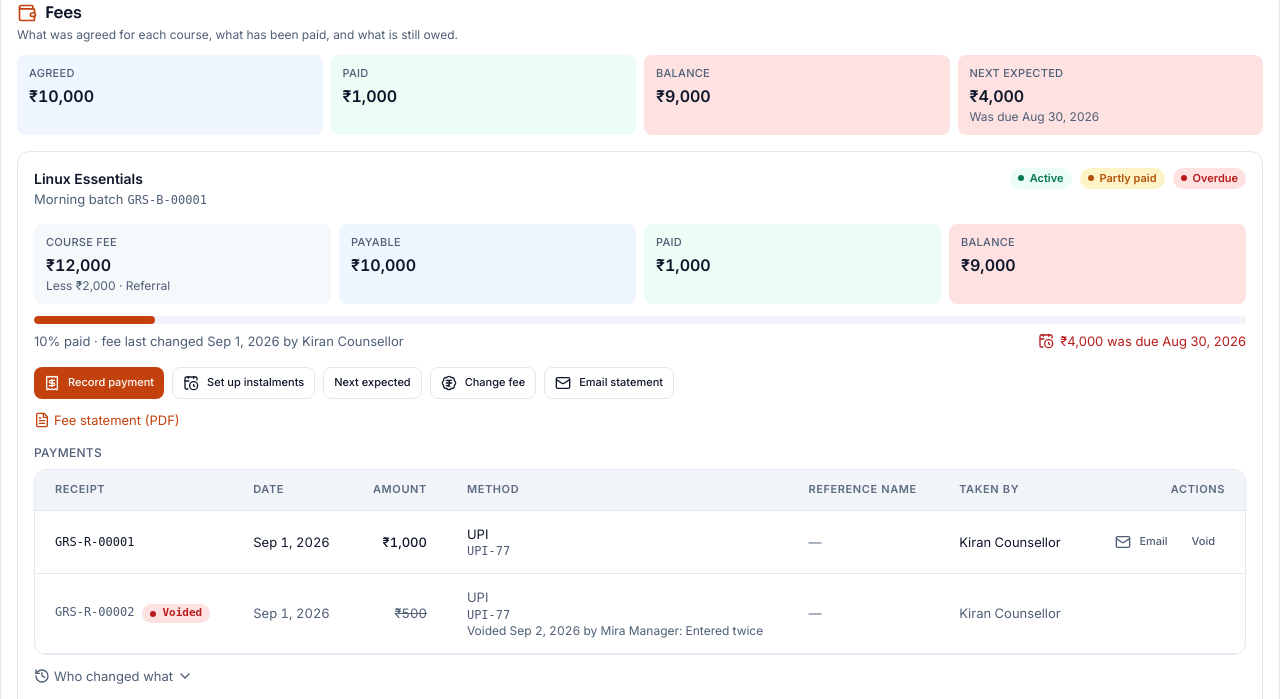
it: FeeLedger › mails the statement, resends a receipt and lists what was sent
Click the button "Email statement" at (609, 383), box [544,367,674,399]
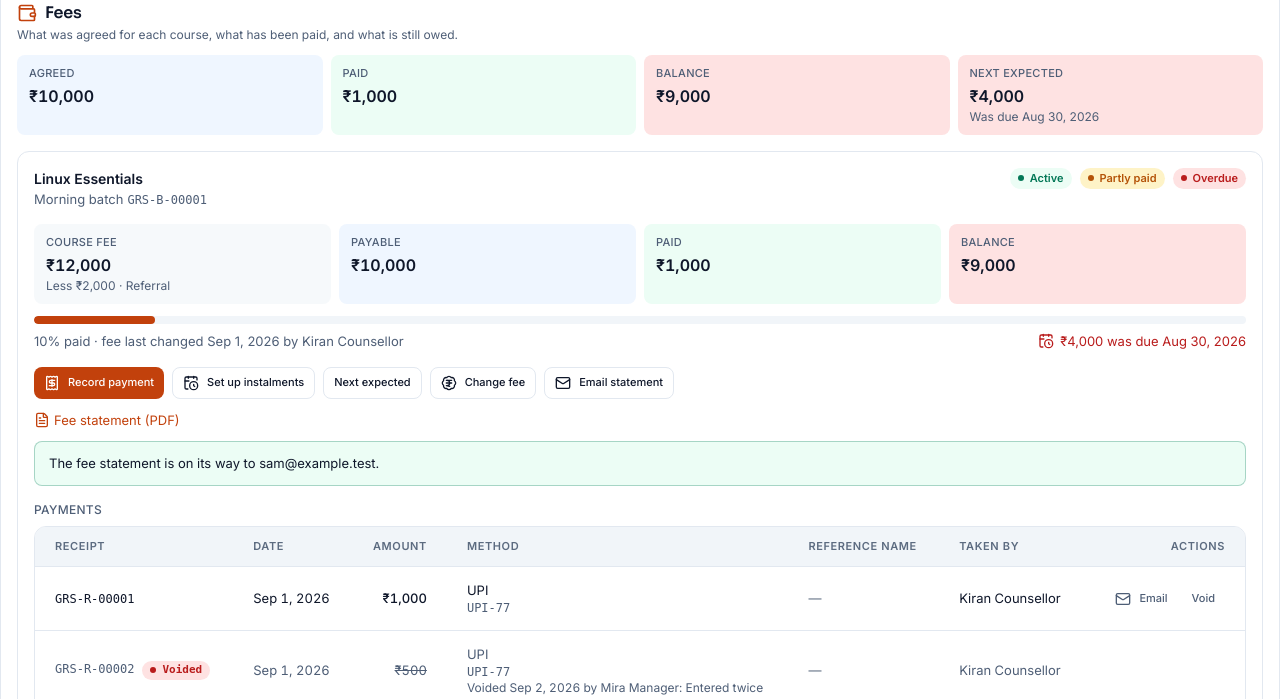
Now the text "The fee statement is on its way to sam@example.test." is shown, box [34,441,1246,486]
Click the button with aria-label "Email receipt GRS-R-00001 to the student" at (1142, 599), box [1105,583,1178,615]
(page scrolled)
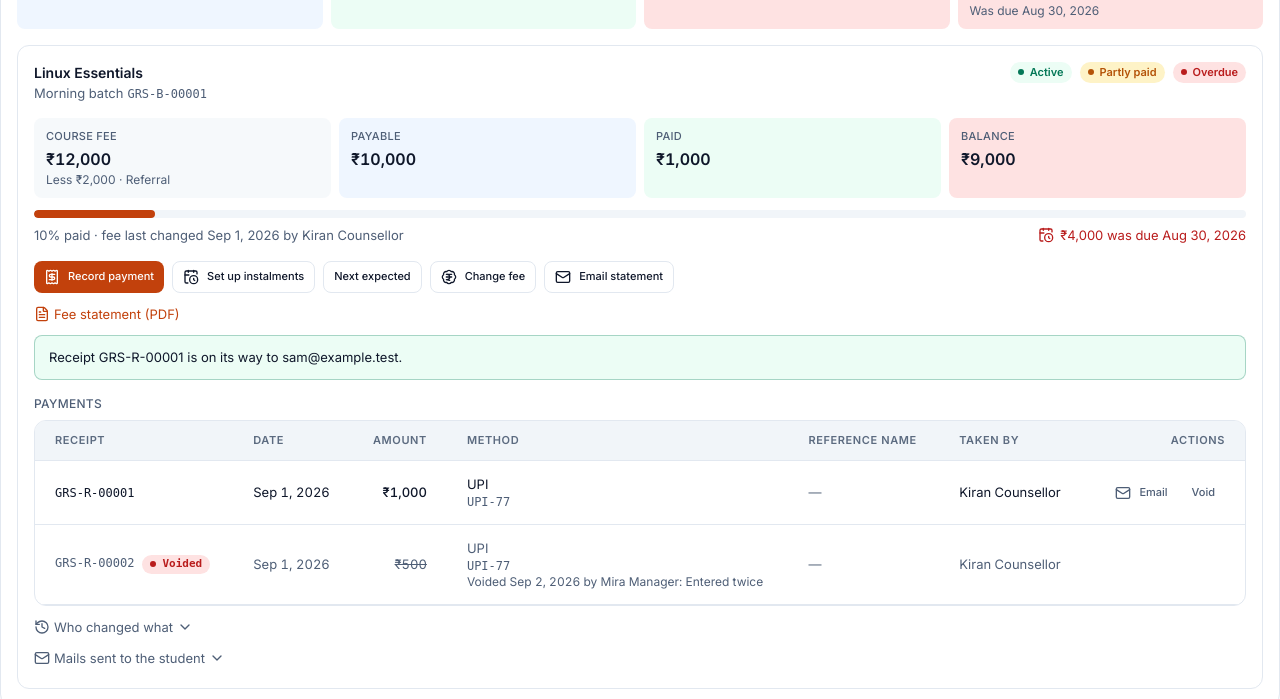
Now the text "Receipt GRS-R-00001 is on its way to sam@example.test." is shown, box [34,335,1246,380]
Click the button "Mails sent to the student" at (129, 658), box [34,649,225,667]
(page scrolled)
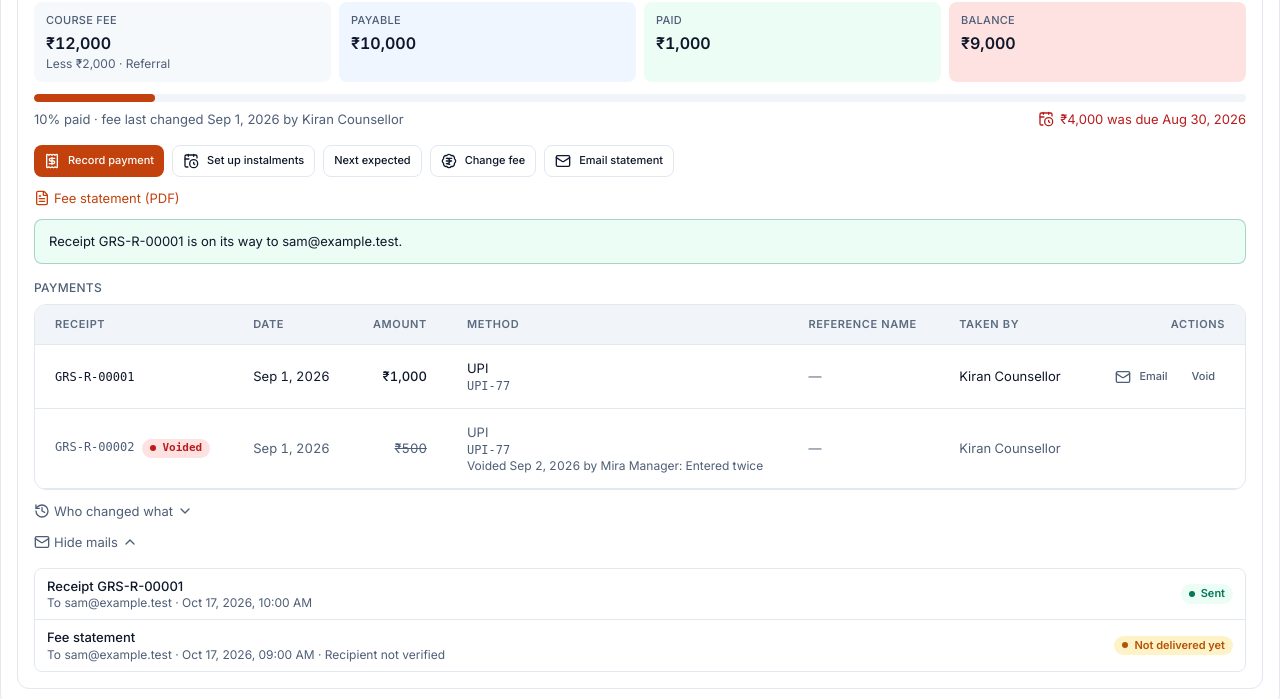
Now the text "Receipt GRS-R-00001" is shown, box [47,578,183,594]
Now the text "Not delivered yet" is shown, box [1114,636,1233,655]
Now the text "Recipient not verified" is shown, box [315,647,445,662]
